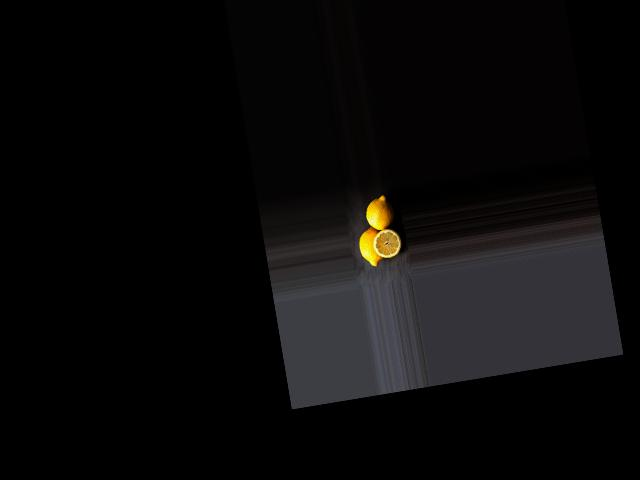lemon: (353, 225, 387, 271)
